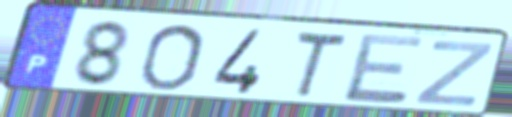4: (211, 28, 268, 96)
8: (71, 18, 134, 88)
E: (340, 31, 428, 106)
O: (135, 22, 208, 93)
T: (291, 28, 351, 101)
Z: (410, 38, 497, 109)
